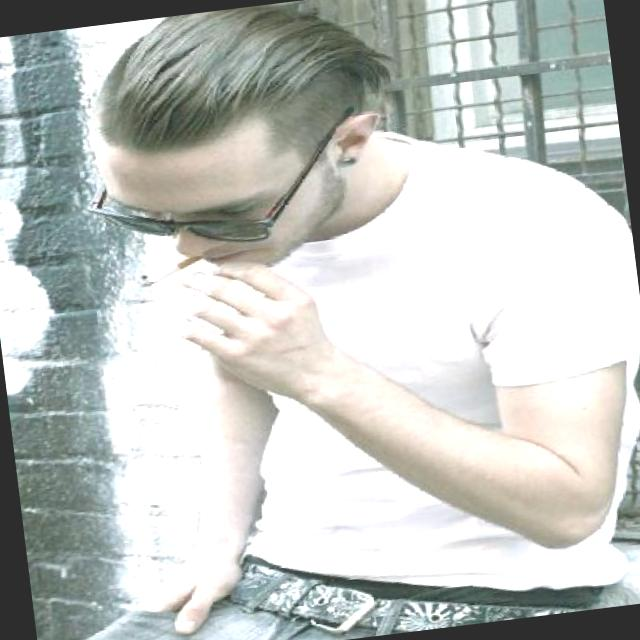cigarette: (126, 247, 212, 298)
